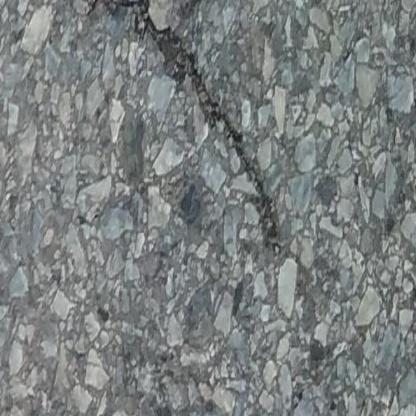Cracks: (47, 0, 295, 260)
